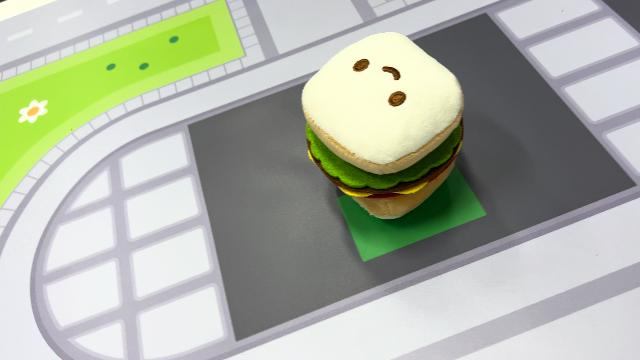sandwich: (298, 29, 468, 221)
